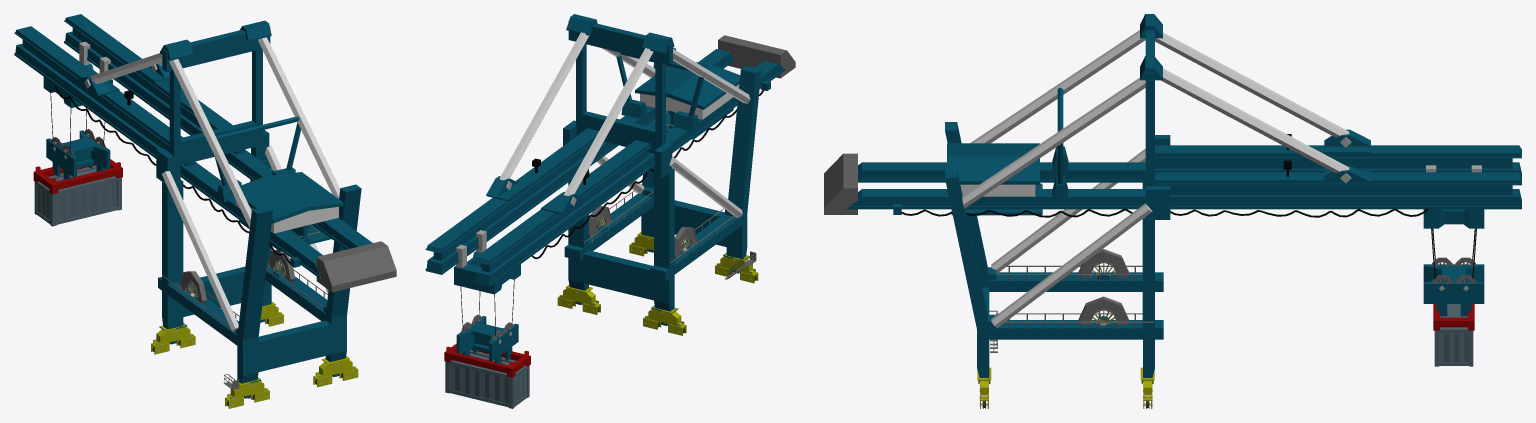
Rendered from Crane.fbx.
3 renders of one model, left to right at view 1: azimuth 30°, elevation 25°; view 2: azimuth 150°, elevation 25°; view 3: azimuth 270°, elevation 25°, orthographic. The views are drawn at different scales.
Parts seen in each view (by area): view 1: Crane, Crate; view 2: Crane, Crate; view 3: Crane, Crate.
Boxes of the visible parts, <box> form: Crane: <box>14,14,396,408</box>; Crate: <box>34,165,121,226</box>; Crane: <box>425,14,795,377</box>; Crate: <box>445,349,529,408</box>; Crane: <box>824,14,1521,408</box>; Crate: <box>1434,304,1473,366</box>.
Size of the model in its own units: 198 by 439 by 833.
